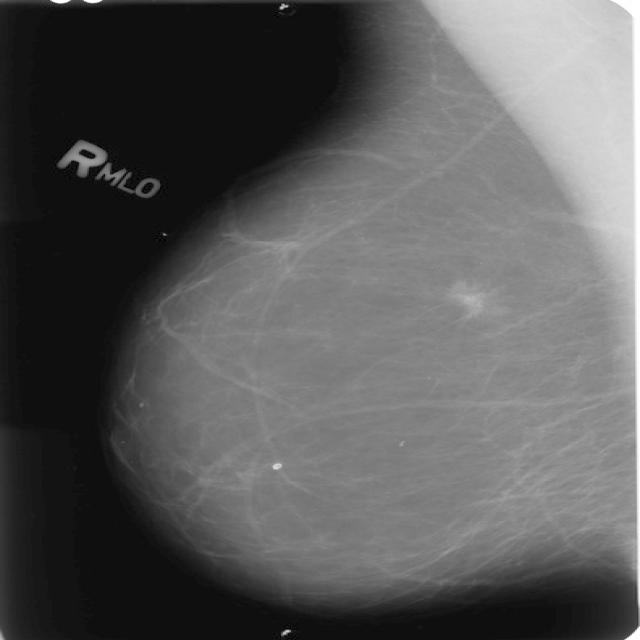tumour: (451, 282, 496, 327)
